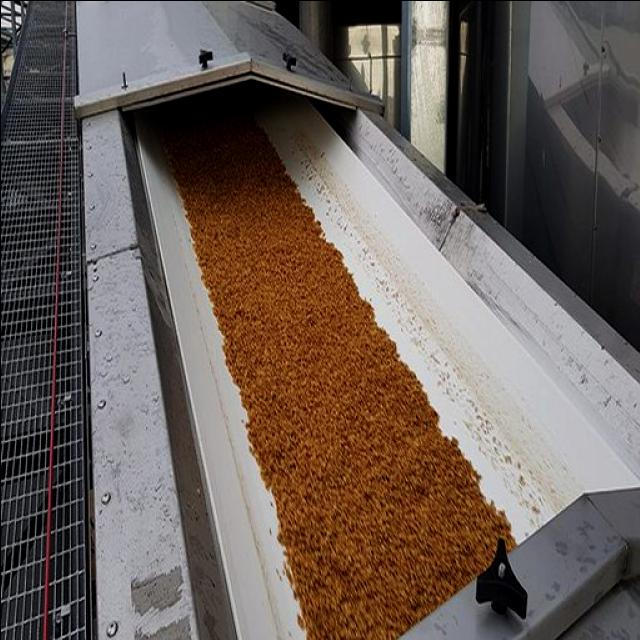conveyor: (147, 83, 637, 640)
